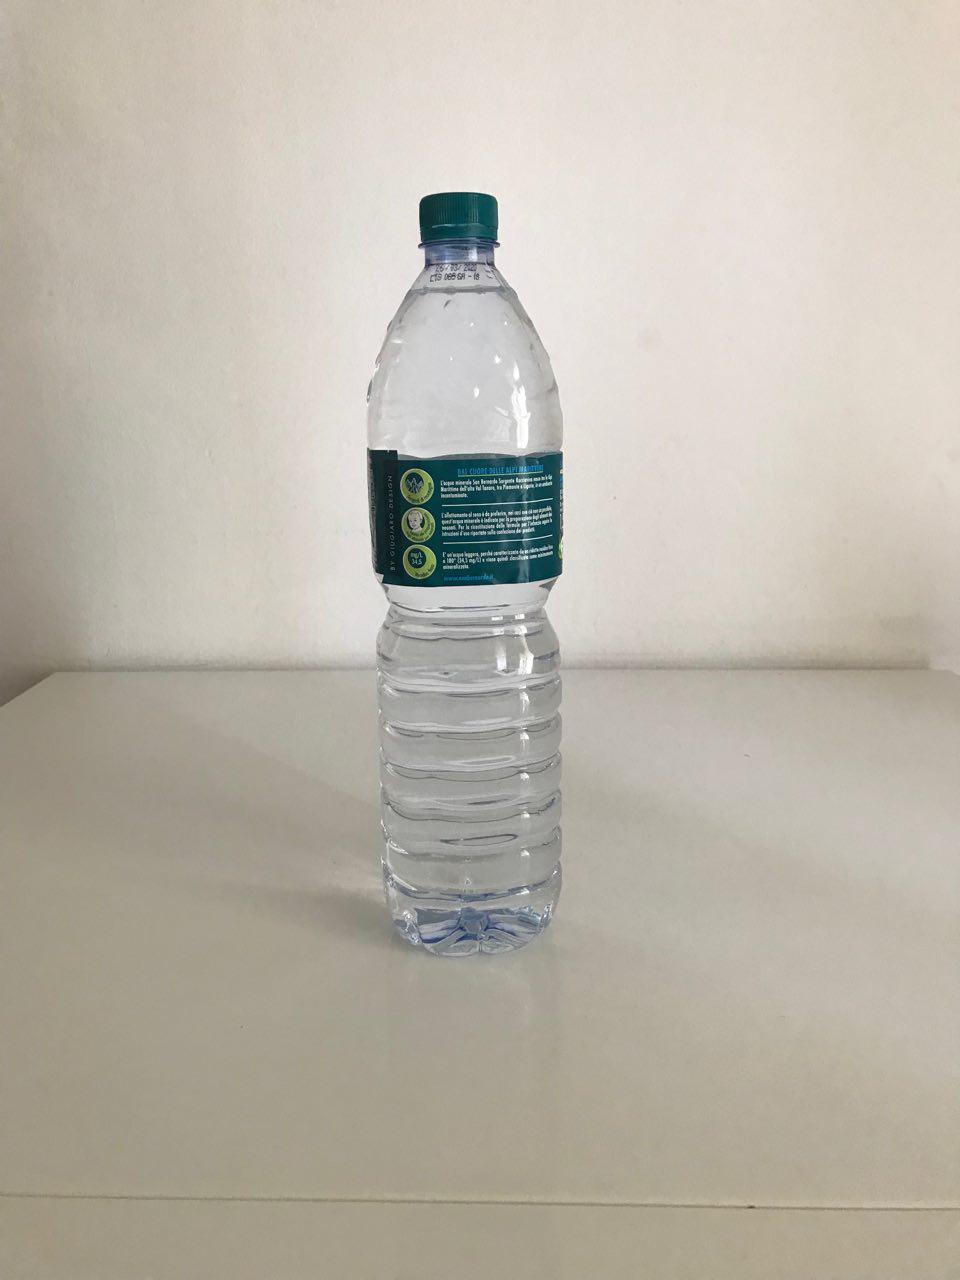san_bernardo: (364, 190, 567, 961)
